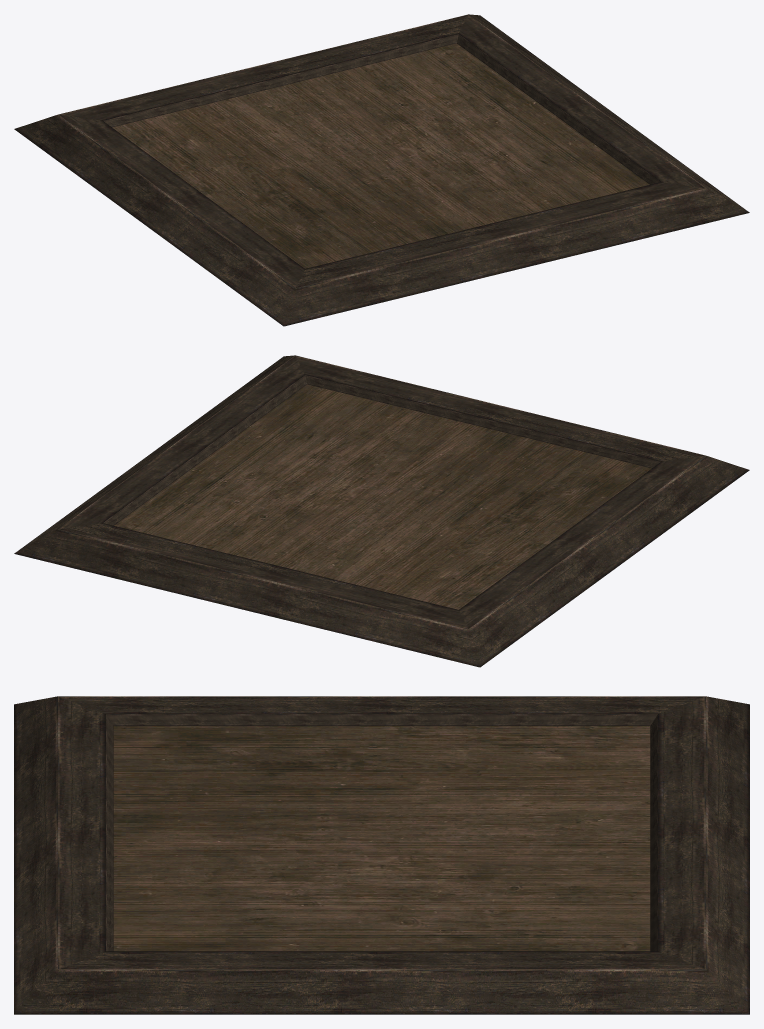
Rendered from vent06.fbx.
The picture shows the model from 3 angles, top to bottom: view 1: azimuth 30°, elevation 25°; view 2: azimuth 150°, elevation 25°; view 3: azimuth 270°, elevation 25°; orthographic projection. The views are drawn at different scales.
Visible parts, largest first — view 1: vent06; view 2: vent06; view 3: vent06.
Part boxes in pixels (x1=…): vent06: x1=14, y1=14, x2=749, y2=326; vent06: x1=14, y1=355, x2=749, y2=667; vent06: x1=14, y1=696, x2=749, y2=1014.
Bounding box in the file's own units: 2.9 × 0.1159 × 2.91.
